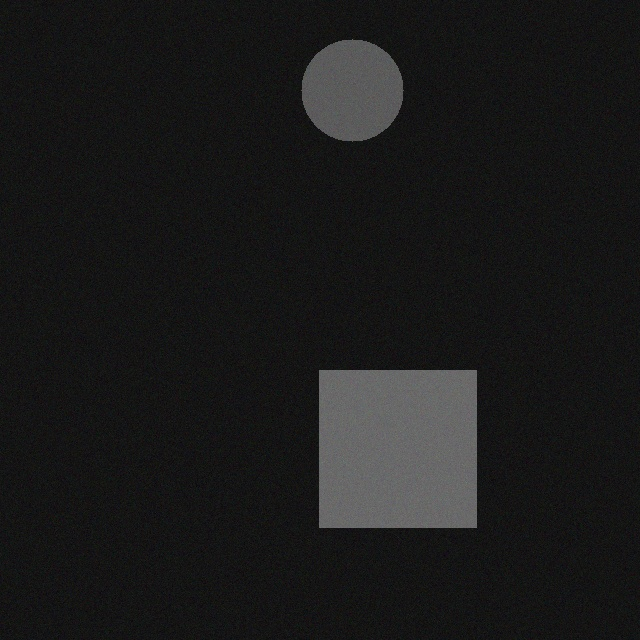circle: (306, 29, 408, 131)
square: (324, 360, 481, 517)
